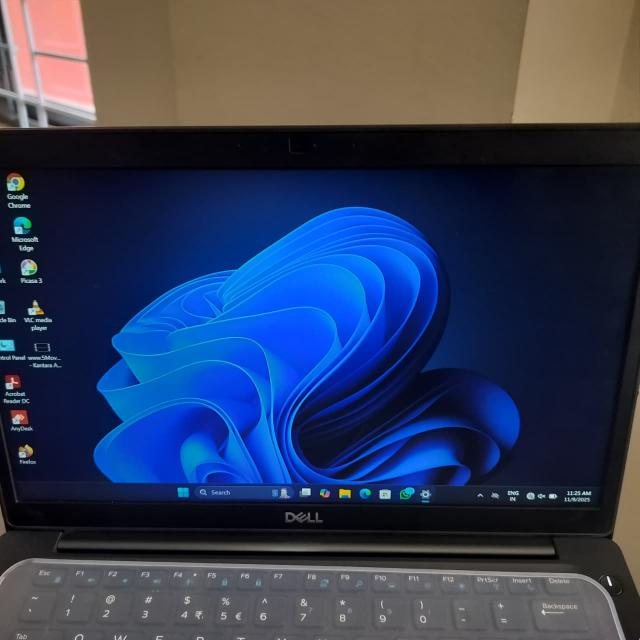laptop: (4, 123, 639, 640)
